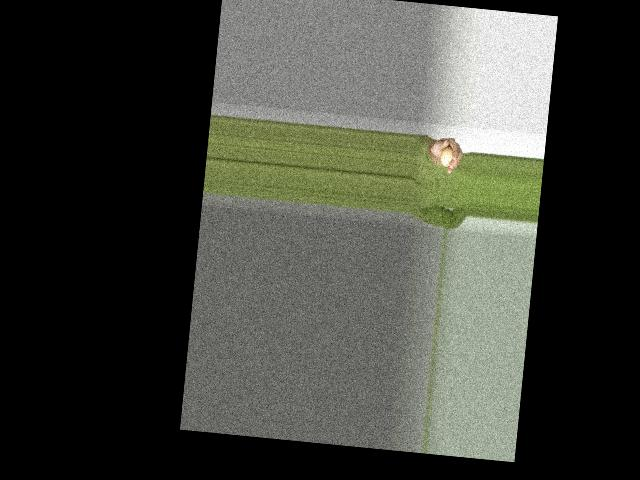egg: (440, 146, 454, 168)
